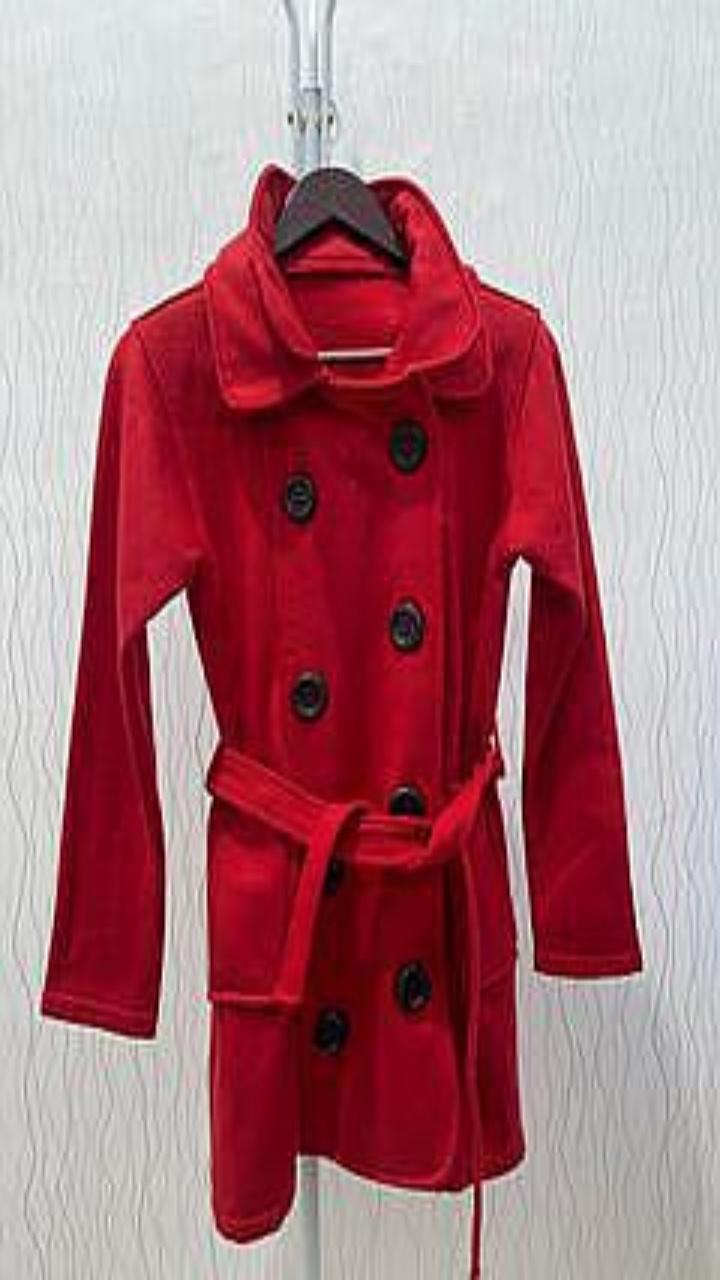Coat: (41, 164, 641, 1274)
